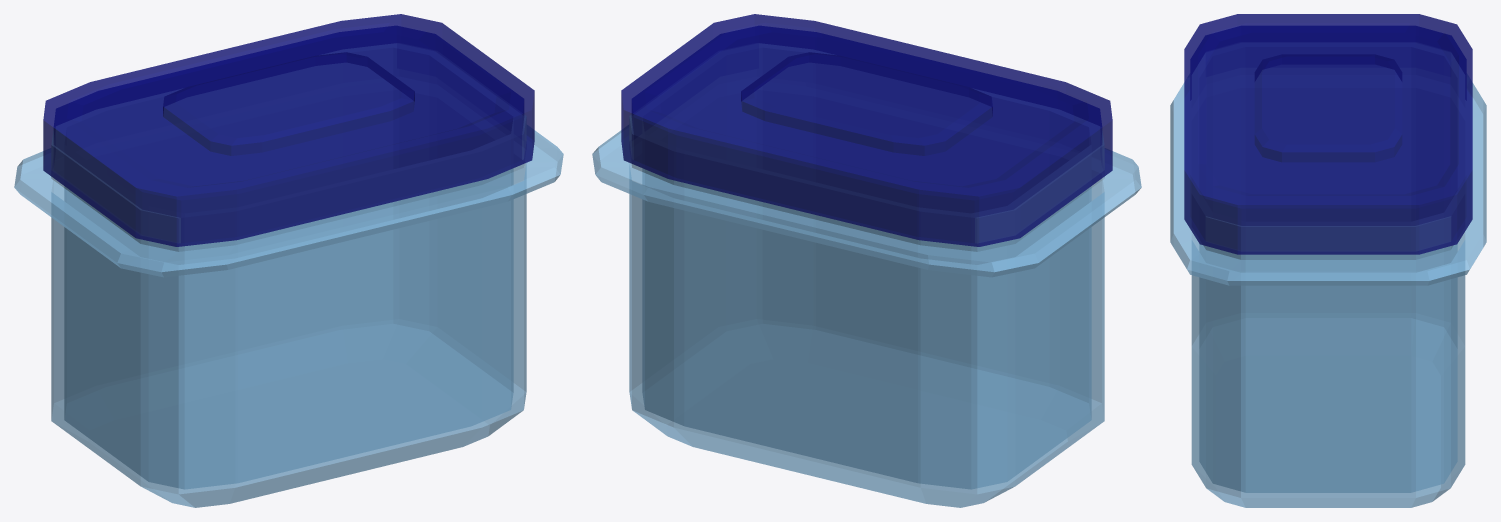
File: tupper 01.fbx
The picture shows the model from 3 angles, left to right: view 1: azimuth 30°, elevation 25°; view 2: azimuth 150°, elevation 25°; view 3: azimuth 270°, elevation 25°; orthographic projection.
Parts seen in each view (by area): view 1: tupper, tapa tupper; view 2: tupper, tapa tupper; view 3: tupper, tapa tupper.
Boxes of the visible parts, x1,y1,x2,y2 form: tupper: (14,44,563,507); tapa tupper: (43,14,534,246); tupper: (592,44,1141,507); tapa tupper: (621,14,1112,246); tupper: (1170,55,1486,507); tapa tupper: (1184,14,1472,254).
Bounding box in the file's own units: 18.5 × 11.56 × 13.36.
